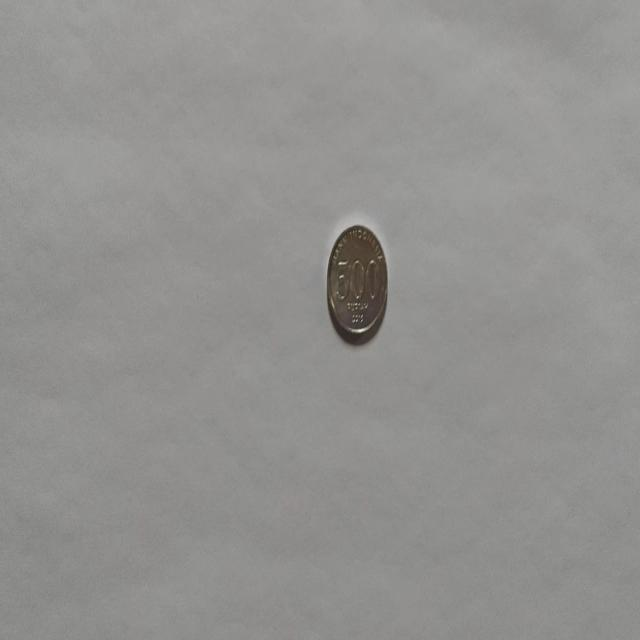lima ratus rupiah: (326, 222, 388, 342)
